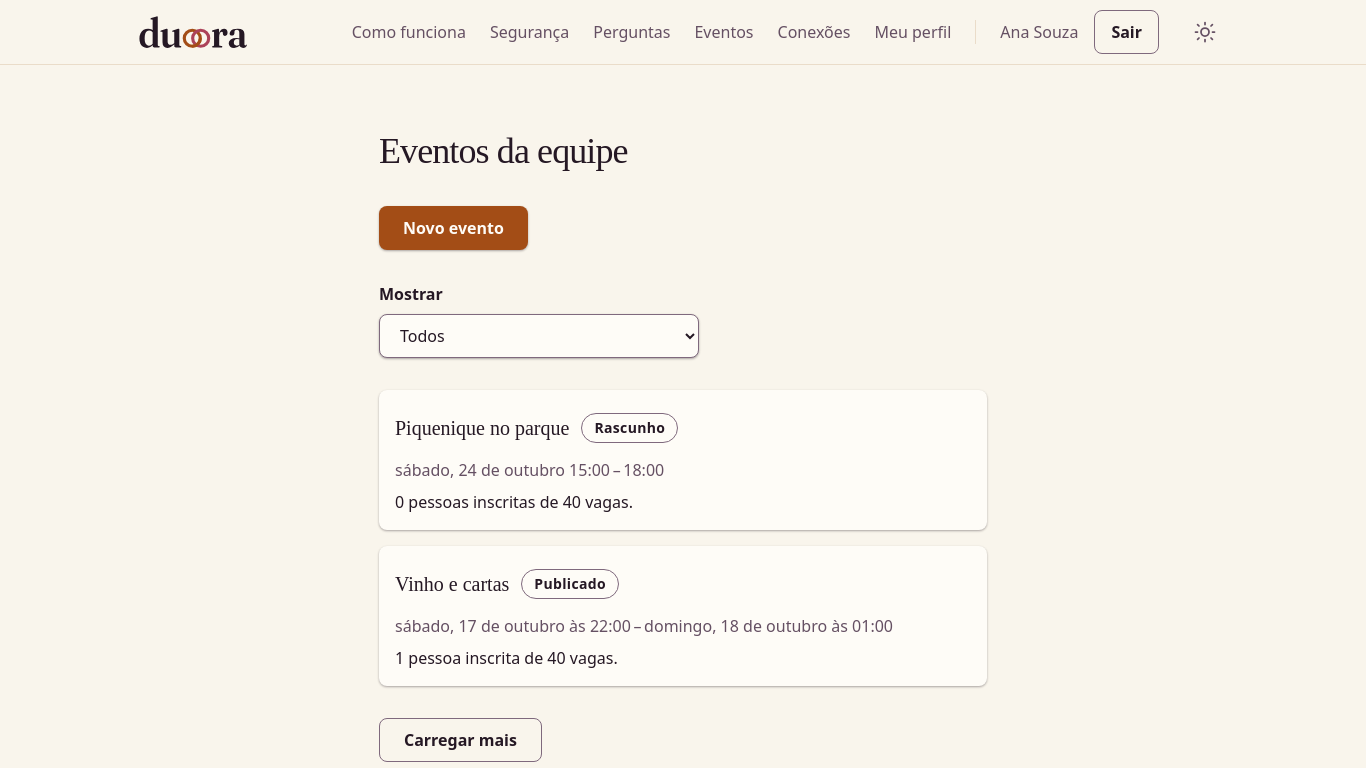
Test case: admin events page › loads the next page on "Carregar mais" and stops offering it on the last page
Click the button "Carregar mais".
click(460, 740)  # box [379,718,542,762]
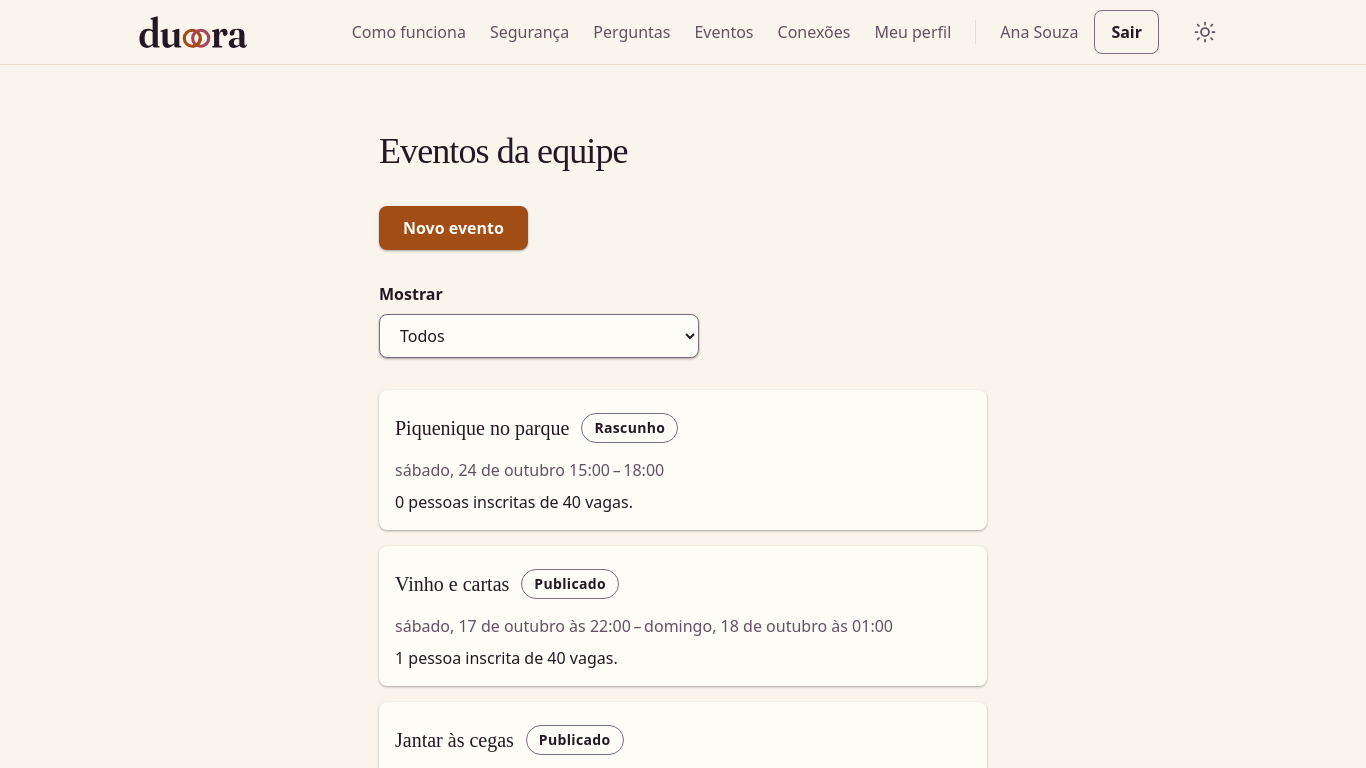
Expected: the link "Jantar às cegas" is shown, [395,729,514,751]
Expected: the button "Carregar mais" is gone
